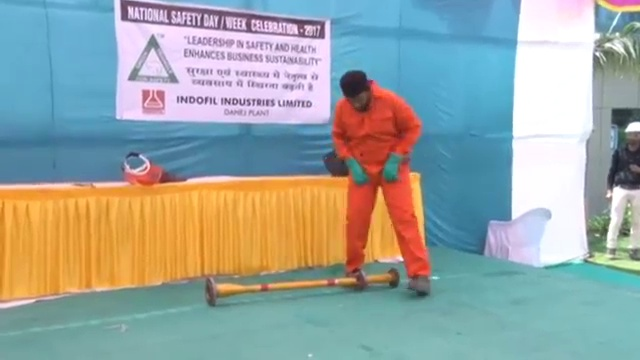helmet: (622, 120, 640, 133)
helmet_off: (339, 69, 372, 111)
helmet_on: (622, 119, 640, 154)
person: (330, 71, 431, 296), (602, 119, 640, 259)
